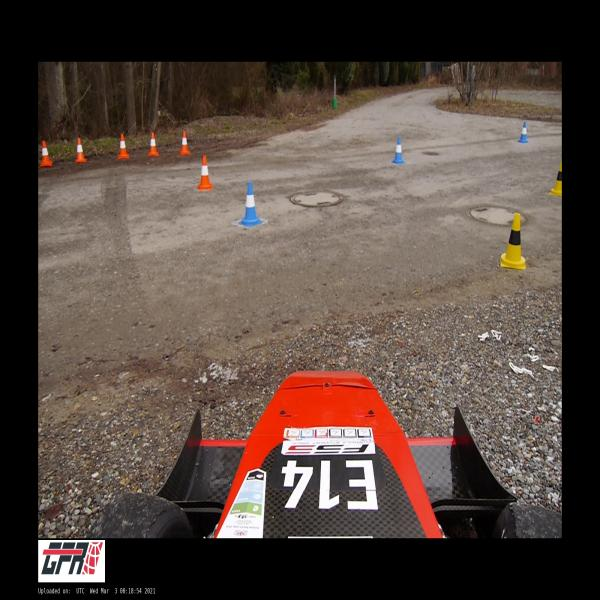blue_cone: (238, 182, 263, 226), (393, 138, 404, 162), (518, 122, 528, 142)
orange_cone: (198, 156, 212, 189), (40, 141, 53, 166), (118, 134, 130, 159), (75, 138, 87, 162), (148, 132, 159, 157), (180, 132, 190, 154)
yellow_cone: (500, 213, 526, 270), (549, 162, 562, 195)
